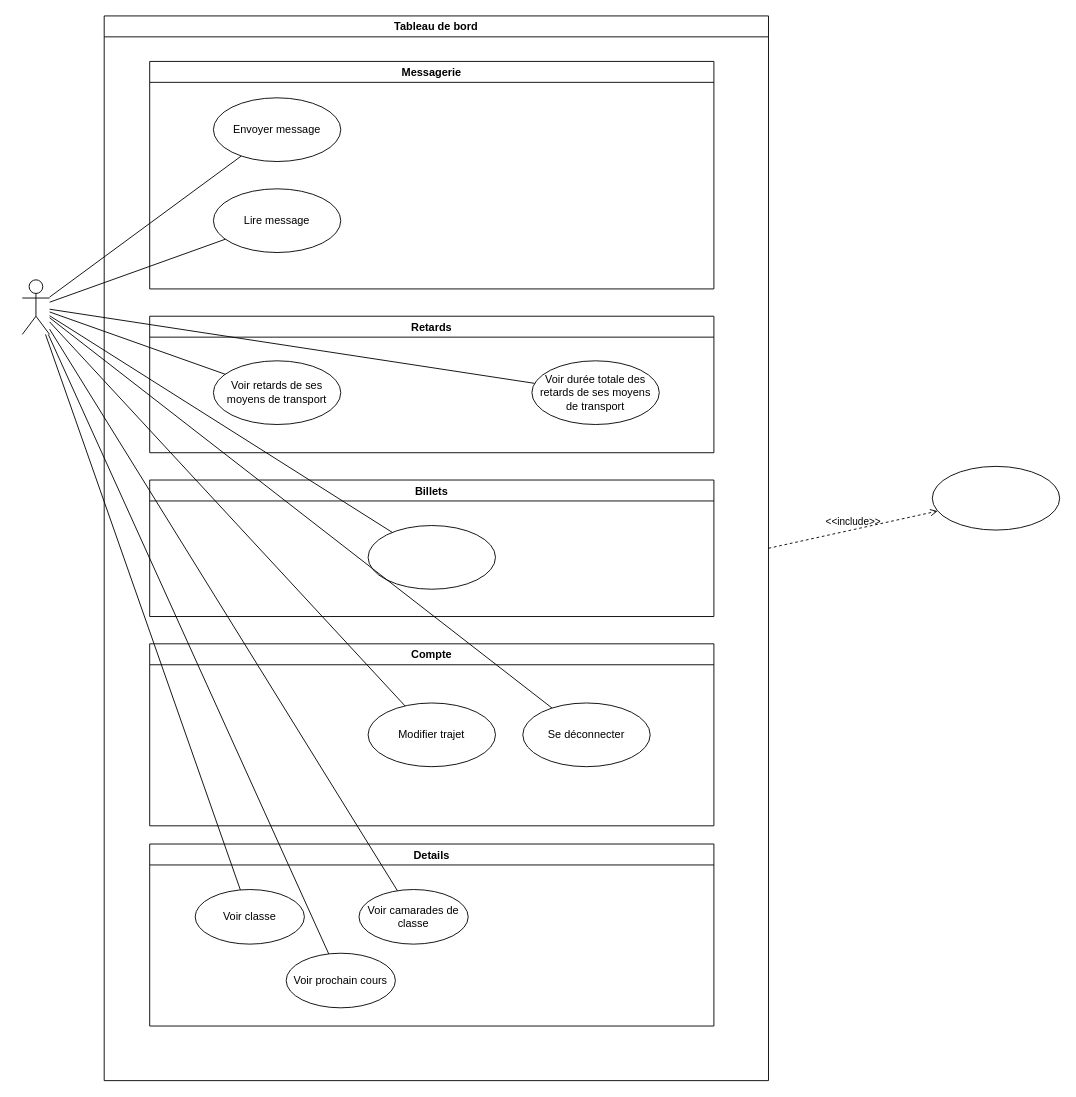
Some shapes in this 1076 by 1097 pixel diagram are drawn without their labels. The shapes that lost their labels are listed below. From the top down, each one's centre as x and y in pixels, then its label:
At [35,306]: "Etudiant".
At [995,497]: "S'authentifier".
At [431,557]: "Consulter ses billets".
